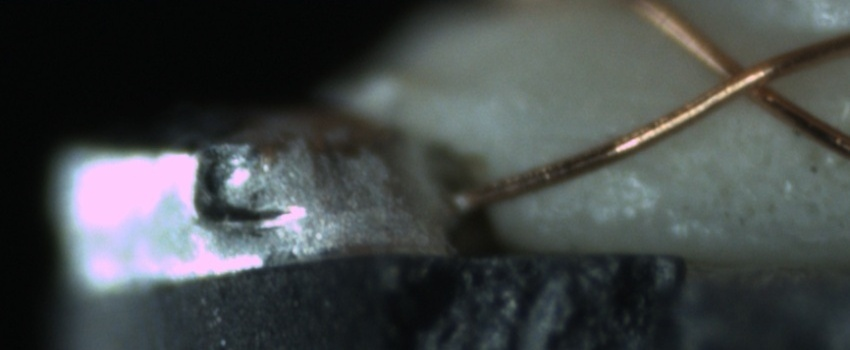CL: (693, 42, 795, 113)
